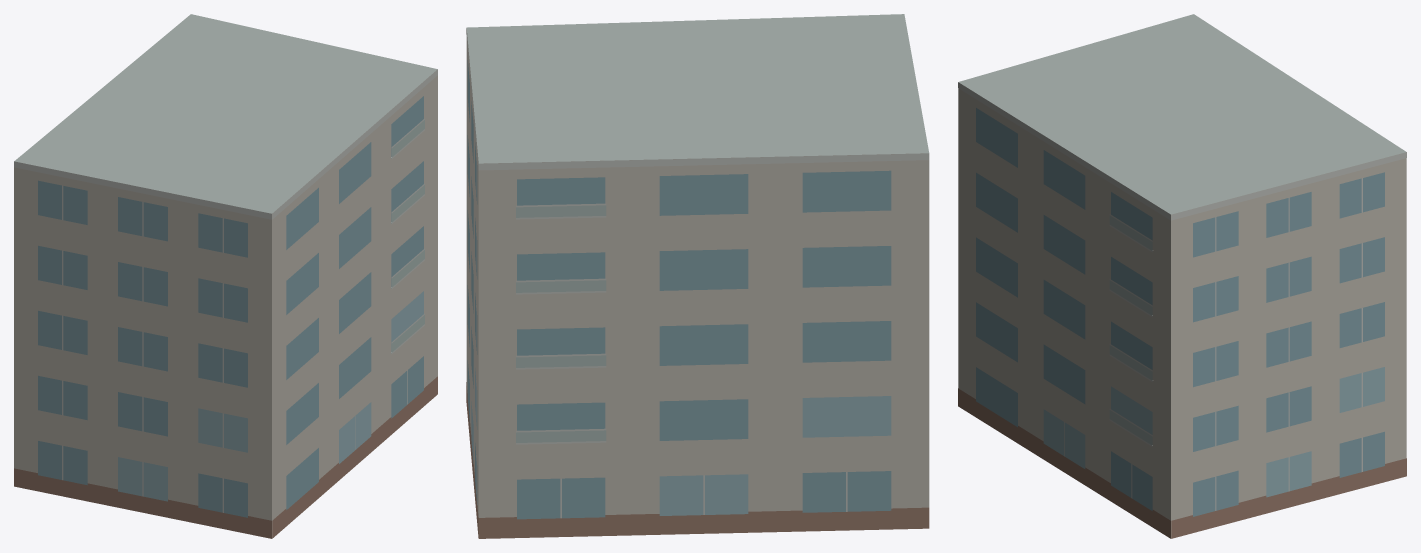
Rendered from survey-upis-33024753.glb.
The picture shows the model from 3 angles, left to right: view 1: azimuth 30°, elevation 25°; view 2: azimuth 150°, elevation 25°; view 3: azimuth 270°, elevation 25°; orthographic projection. The views are drawn at different scales.
Visible parts, largest first — view 1: survey-upis-33024753.tmp; view 2: survey-upis-33024753.tmp; view 3: survey-upis-33024753.tmp.
Part boxes in pixels (x1,y1,x2,y2): survey-upis-33024753.tmp: (14, 14, 437, 538); survey-upis-33024753.tmp: (466, 14, 929, 538); survey-upis-33024753.tmp: (958, 14, 1406, 538).
Bounding box in the file's own units: 17.53 × 13.2 × 16.56.
